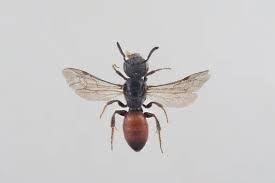Allodapula: (59, 37, 214, 159)
